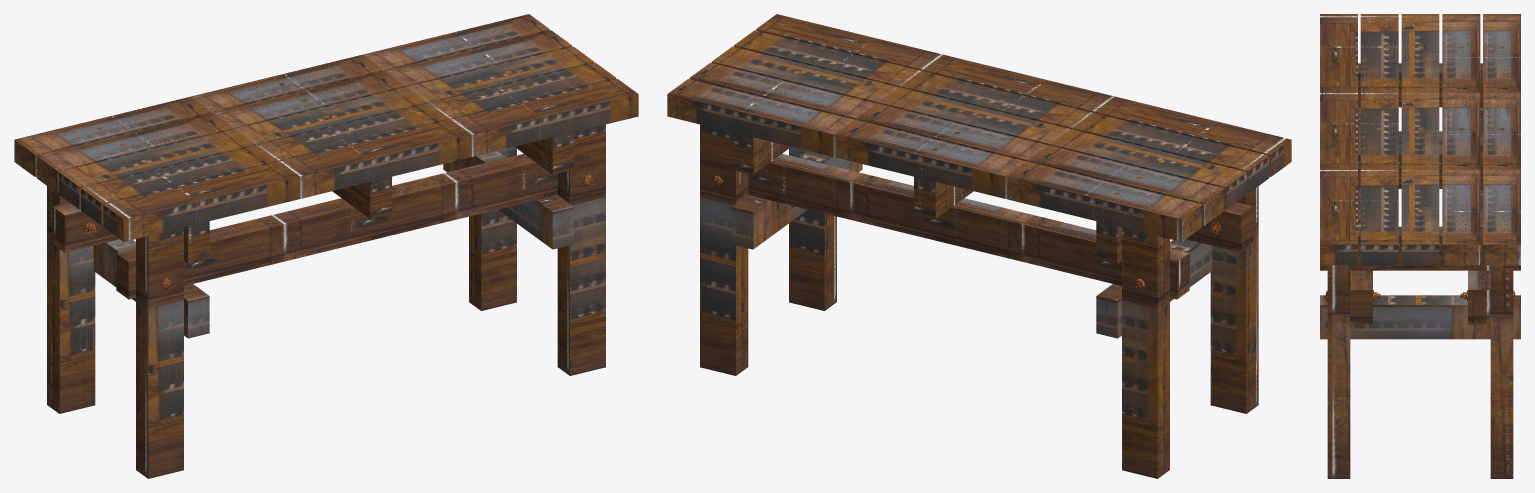
3 views of the same model, side by side, from view 1: azimuth 30°, elevation 25°; view 2: azimuth 150°, elevation 25°; view 3: azimuth 270°, elevation 25° (orthographic). The views are drawn at different scales.
Parts seen in each view (by area): view 1: mesh1_mesh1-geometry; view 2: mesh1_mesh1-geometry; view 3: mesh1_mesh1-geometry.
Part boxes in pixels (x1,y1,x2,y2): mesh1_mesh1-geometry: [14, 14, 638, 478]; mesh1_mesh1-geometry: [667, 14, 1291, 478]; mesh1_mesh1-geometry: [1320, 14, 1520, 478].
Size of the model in its own units: 0.8496 by 0.4248 by 0.3127.
